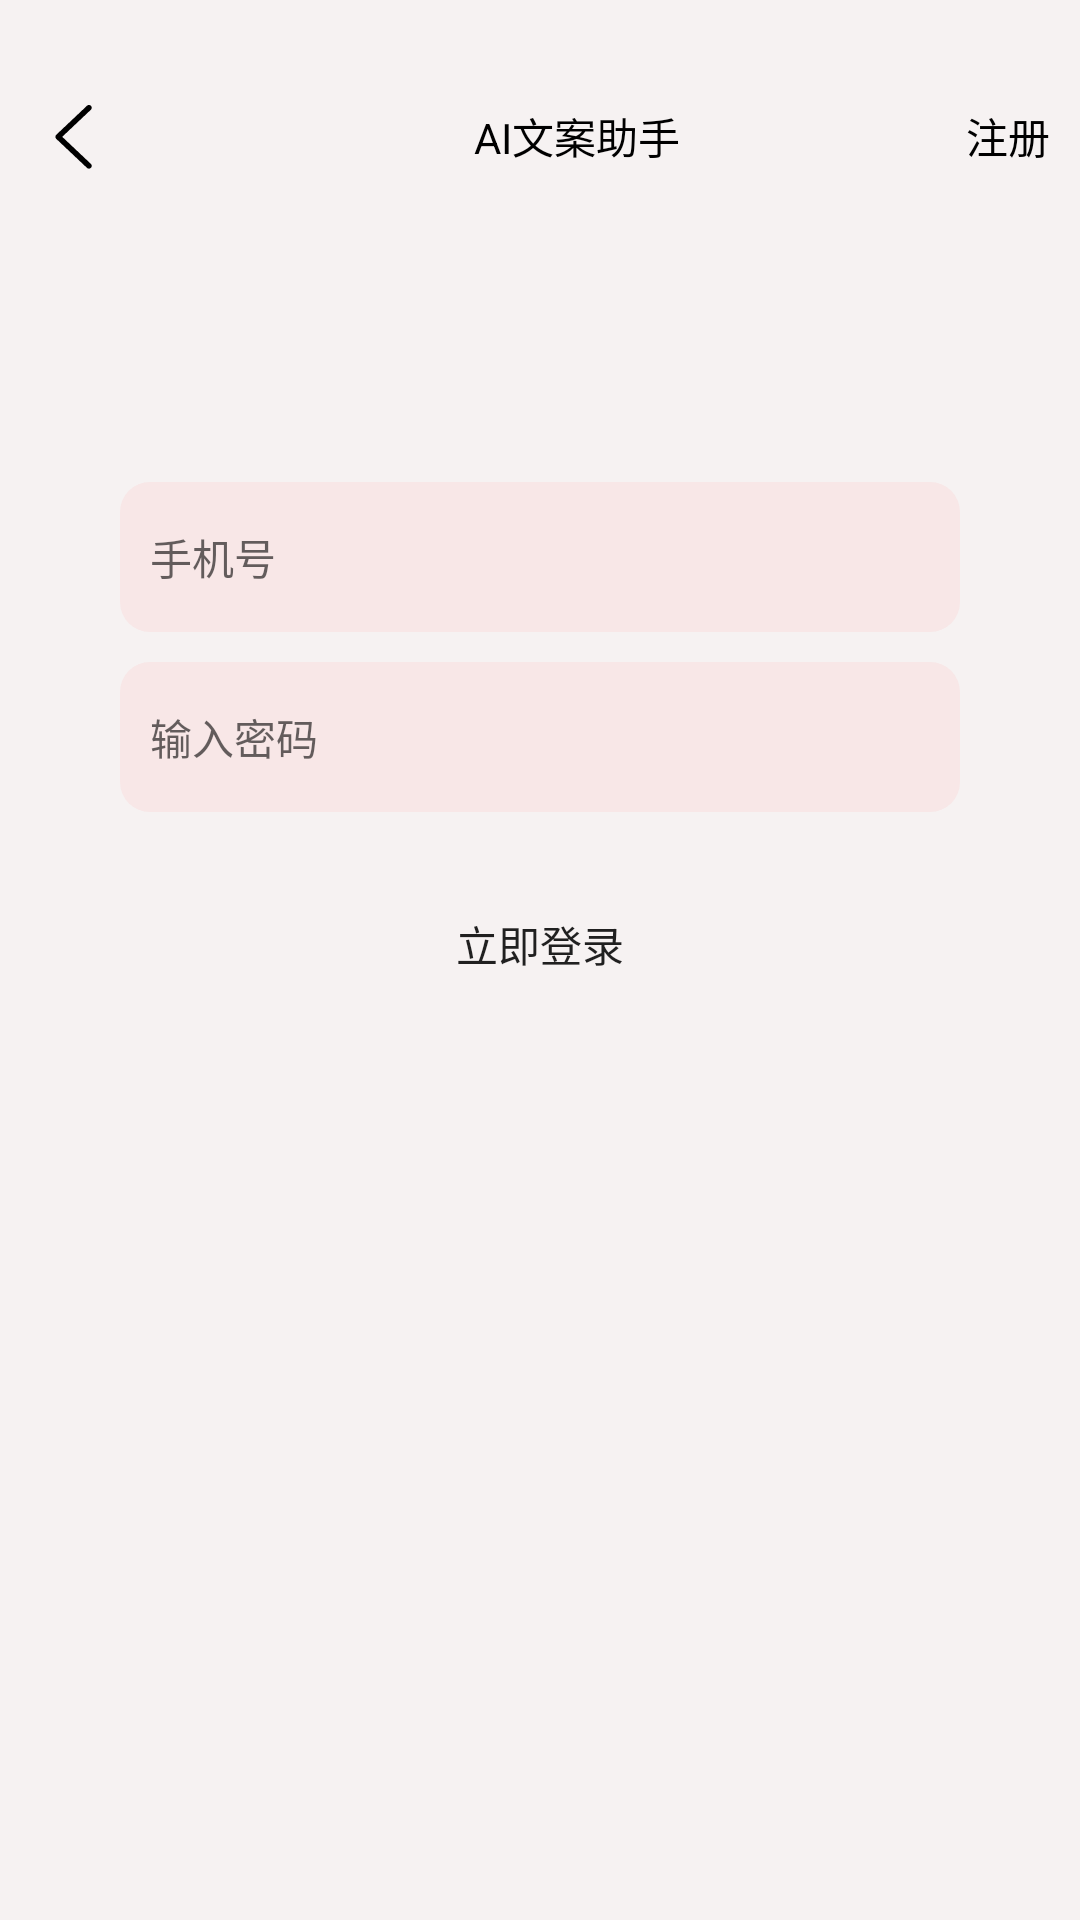

Named icons in this screenshot (1080x1920) and their centers, [x,y]:
back: [73,137]
